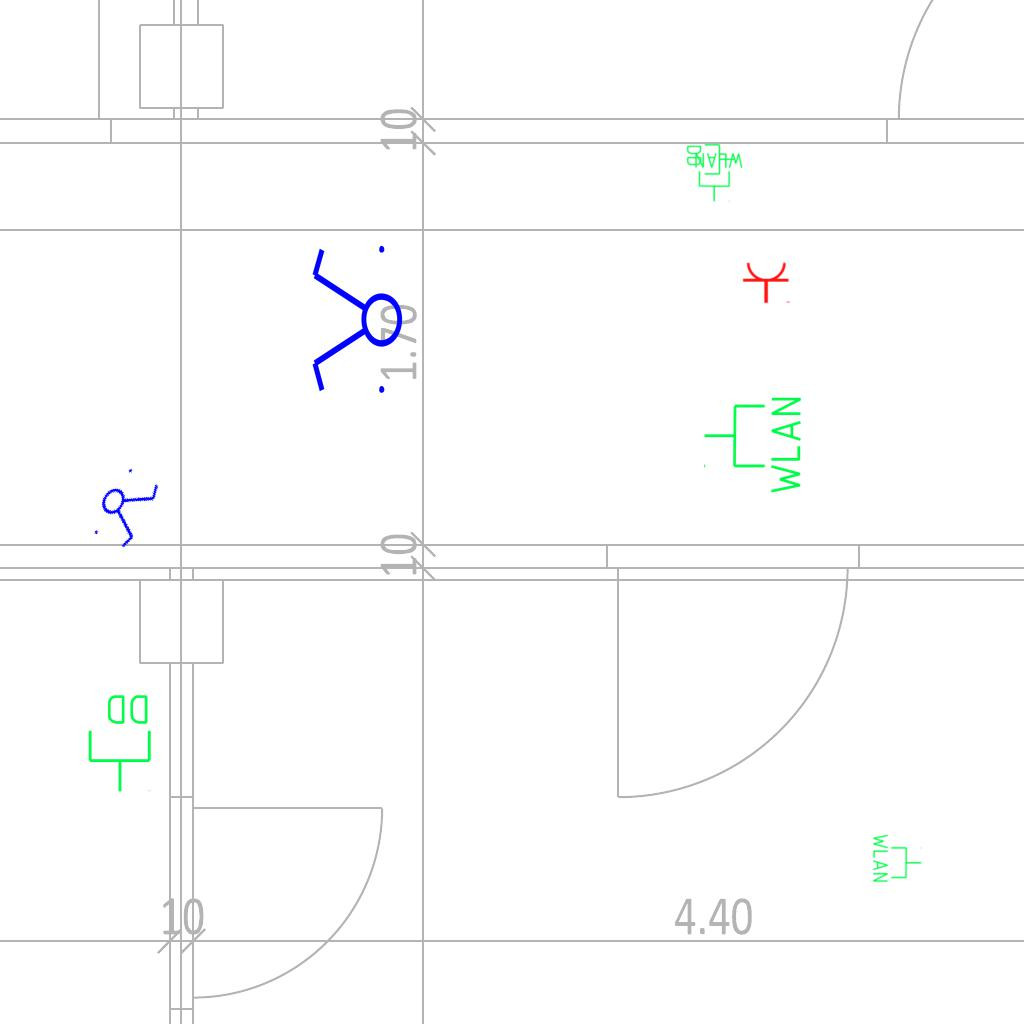Datenanschluss_zweifach: (86, 691, 155, 794), (685, 142, 736, 176)
Schukosteckdose_einfach: (742, 261, 792, 304)
Serienschalter: (308, 237, 404, 405), (83, 458, 167, 556)
WLAN: (701, 393, 805, 498), (870, 831, 924, 885), (693, 151, 745, 203)
